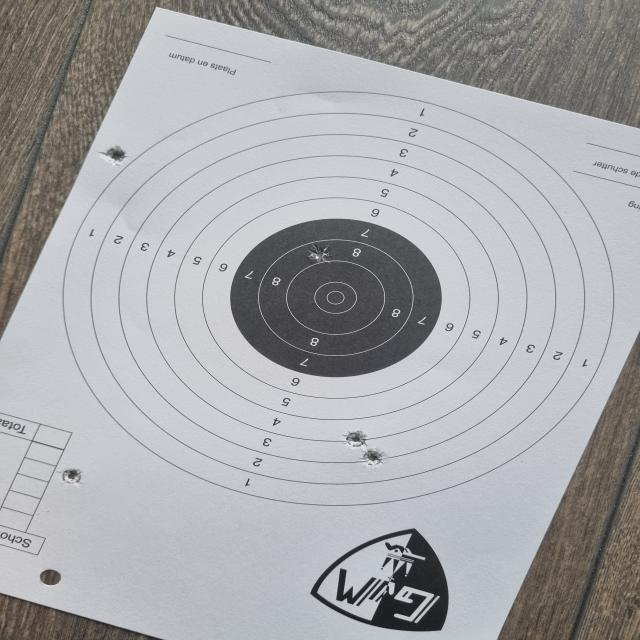10: (308, 244, 332, 264)
4: (358, 450, 385, 466)
5: (342, 430, 368, 447)
Black Contour: (228, 221, 448, 377)
Target: (56, 90, 620, 508)
hole: (97, 146, 130, 163), (56, 468, 84, 484)
